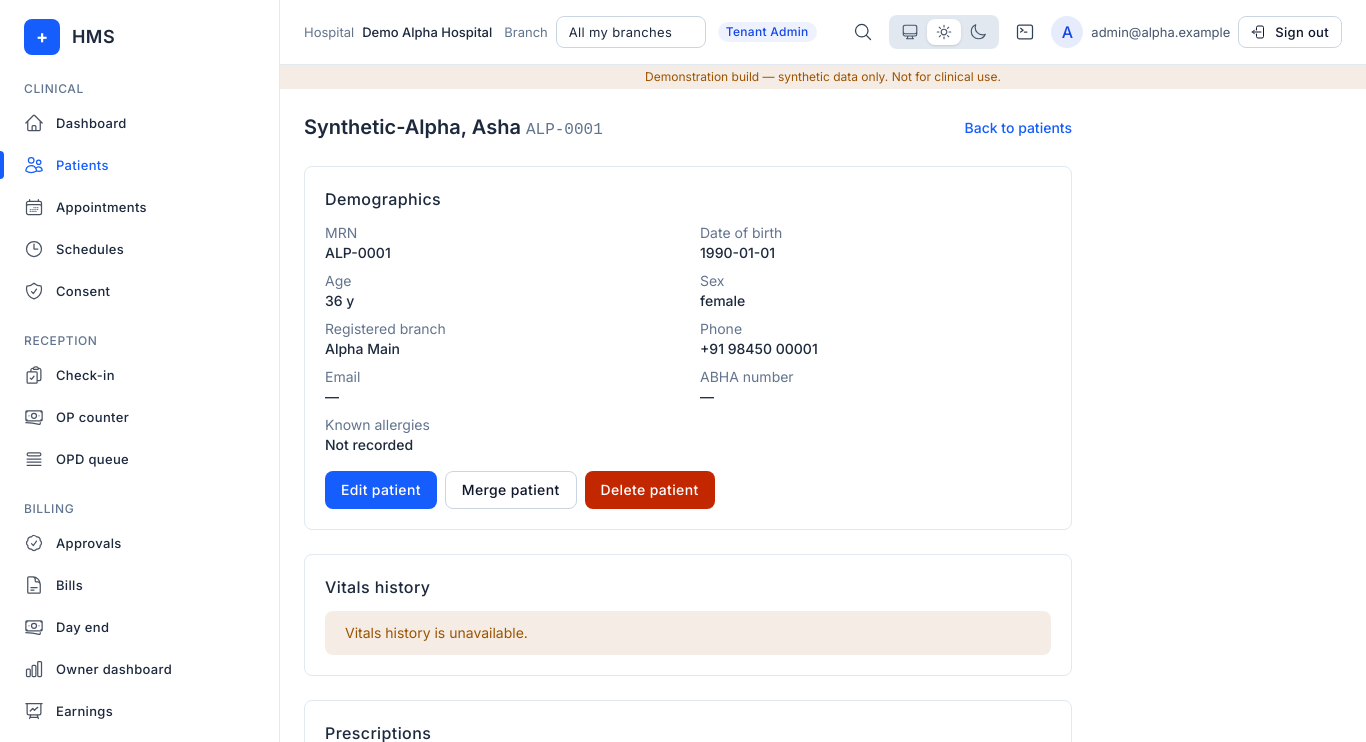
Test: PatientDetailPage › maps server validation errors onto the edit form
Click the button "Edit patient": {"x": 381, "y": 490} [325,471,437,509]
(page scrolled)
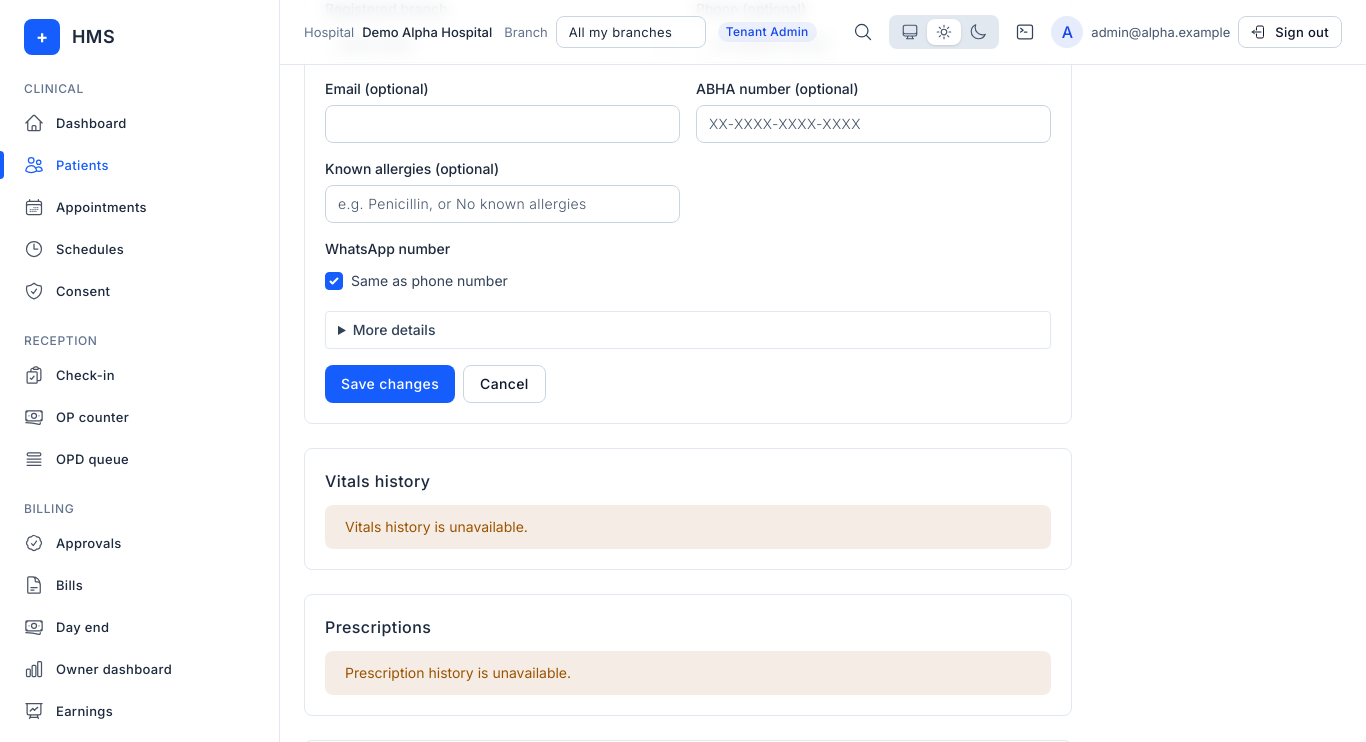
Click the button "Save changes": {"x": 390, "y": 384} [325,365,455,403]
(page scrolled)
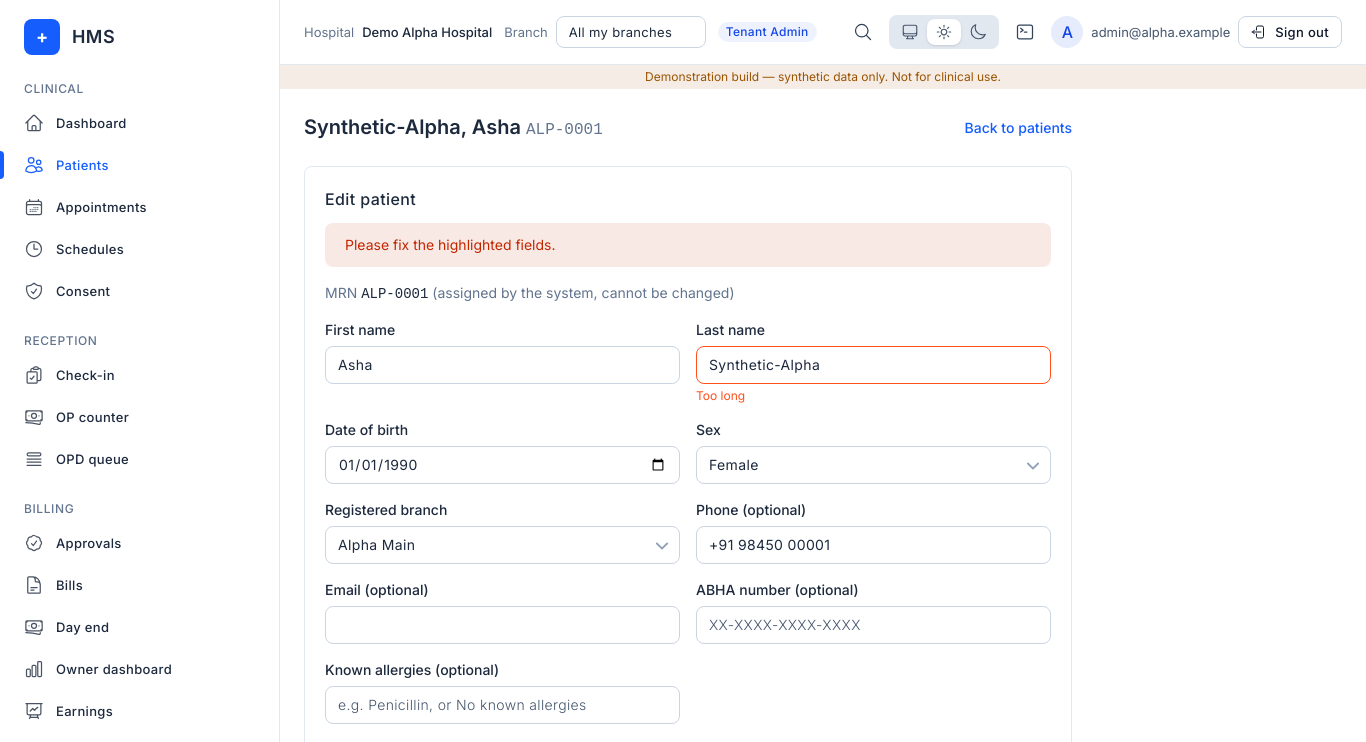
Check: the text "Too long" is shown, box [696,388,745,403]
Check: the text "Please fix the highlighted fields." is shown, box [325,223,1051,267]
